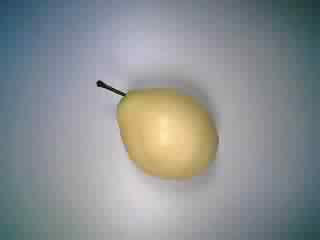pear: (82, 62, 231, 188)
